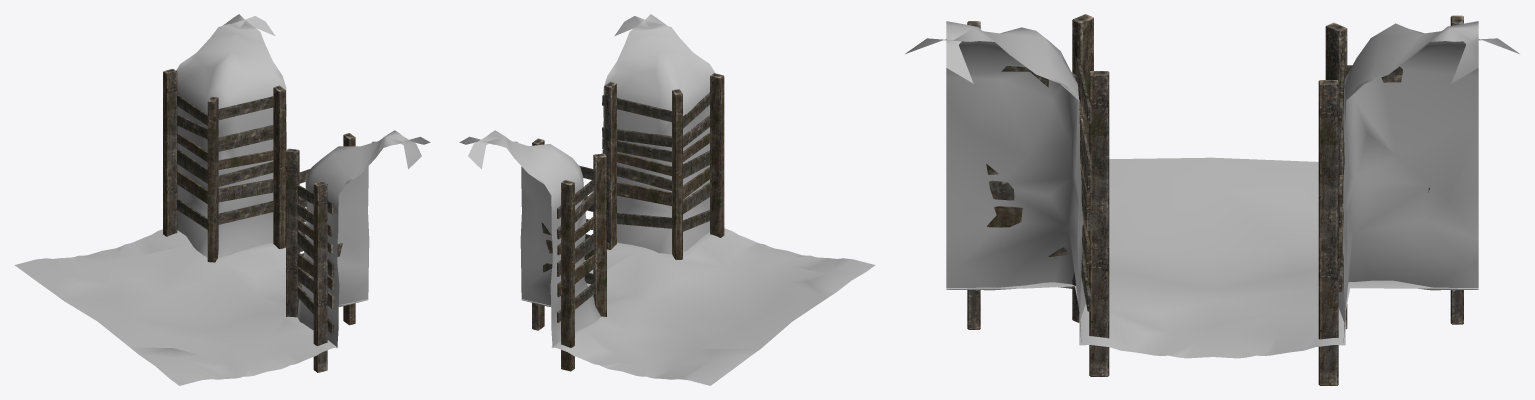
File: Ground_T_Intersection_Wood 1.fbx
3 renders of one model, left to right at view 1: azimuth 30°, elevation 25°; view 2: azimuth 150°, elevation 25°; view 3: azimuth 270°, elevation 25°, orthographic. The views are drawn at different scales.
Visible parts, largest first — view 1: Ground_T_Intersection_Wood_LOD0.001; view 2: Ground_T_Intersection_Wood_LOD0.001; view 3: Ground_T_Intersection_Wood_LOD0.001.
Part boxes in pixels (x1,y1,x2,y2): Ground_T_Intersection_Wood_LOD0.001: (14, 14, 430, 385); Ground_T_Intersection_Wood_LOD0.001: (459, 14, 875, 385); Ground_T_Intersection_Wood_LOD0.001: (905, 14, 1519, 385).
Size of what is drawn, in the model's own units: 355 by 294 by 463.
Materials: 2 (1 with a texture image).
